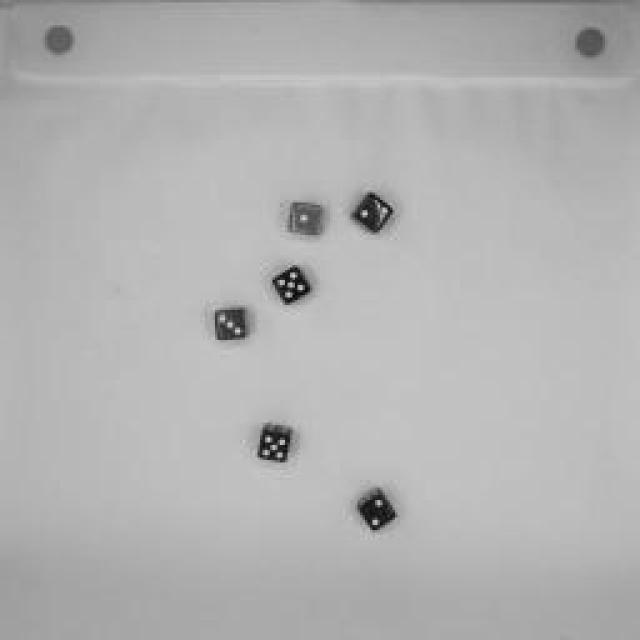dice_1: (284, 196, 328, 244)
dice_2: (352, 486, 402, 536), (346, 188, 394, 238)
dice_3: (210, 304, 255, 346)
dice_5: (250, 420, 300, 470), (265, 261, 317, 309)
